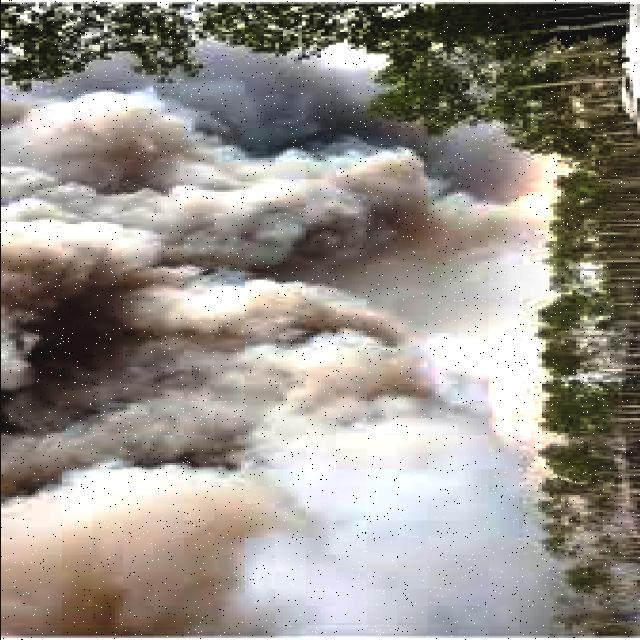asap: (1, 65, 546, 640)
